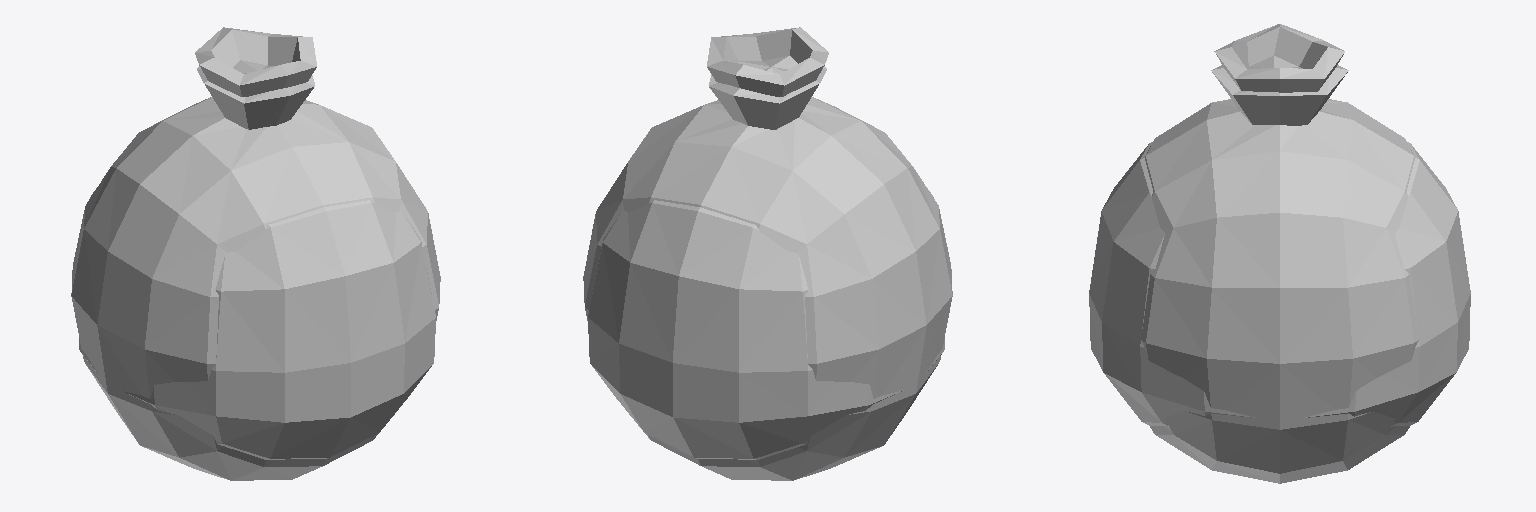
File: water balloon sketchfab.obj
3 renders of one model, left to right at view 1: azimuth 30°, elevation 25°; view 2: azimuth 150°, elevation 25°; view 3: azimuth 270°, elevation 25°, orthographic.
Parts seen in each view (by area): view 1: water_balloon_safe_Cube.001, water_ballon_Cube; view 2: water_balloon_safe_Cube.001, water_ballon_Cube; view 3: water_balloon_safe_Cube.001, water_ballon_Cube.
Part boxes in pixels (x1,y1,x2,y2): water_balloon_safe_Cube.001: (71, 27, 440, 480); water_ballon_Cube: (79, 66, 435, 459); water_balloon_safe_Cube.001: (583, 27, 952, 480); water_ballon_Cube: (588, 66, 944, 459); water_balloon_safe_Cube.001: (1141, 24, 1418, 483); water_ballon_Cube: (1089, 65, 1470, 426).
Bounding box in the file's own units: 1.76 × 2.21 × 1.83.